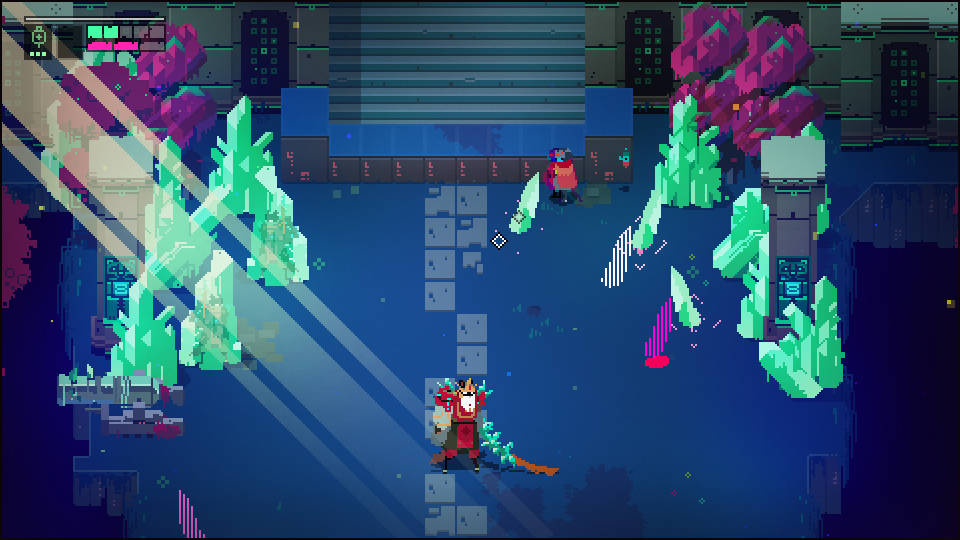hanged_crys: (670, 267, 705, 331), (602, 220, 630, 290), (636, 189, 664, 256), (512, 171, 538, 237), (642, 300, 667, 355)
hanged_man: (427, 375, 521, 477)
player: (551, 147, 582, 212)
